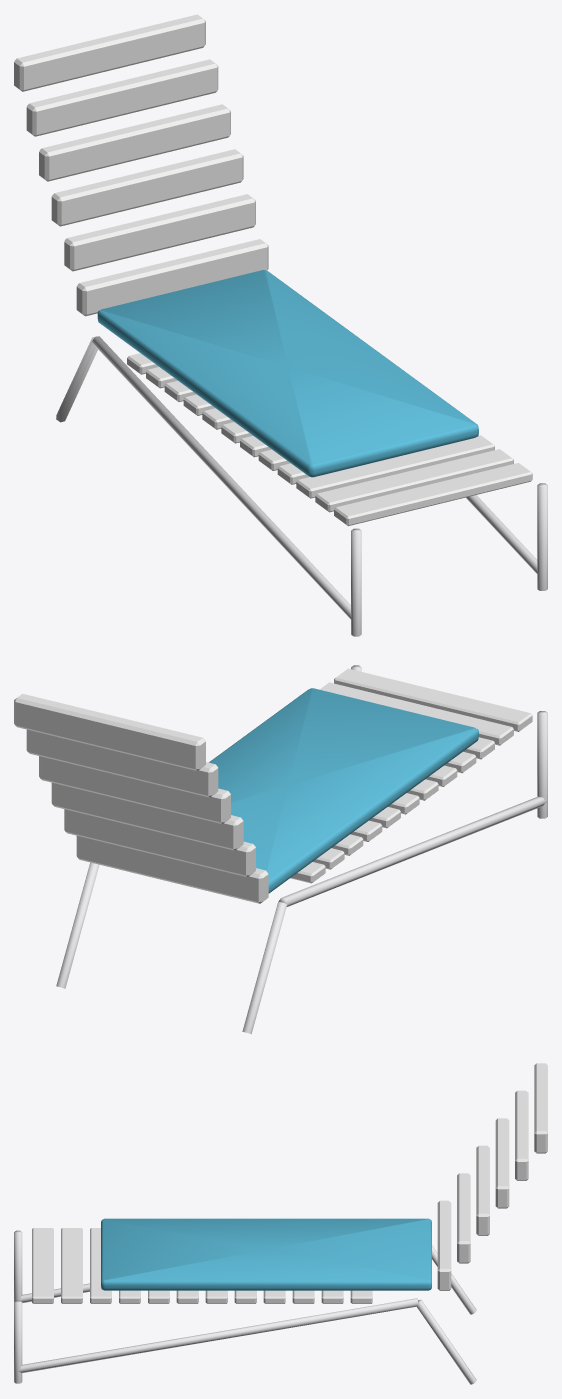
Rendered from deckchair.glb.
3 renders of one model, top to bottom at view 1: azimuth 30°, elevation 25°; view 2: azimuth 150°, elevation 25°; view 3: azimuth 270°, elevation 25°, orthographic. The views are drawn at different scales.
Parts seen in each view (by area): view 1: deckchair; view 2: deckchair; view 3: deckchair.
Part boxes in pixels (box(x1,y1,x2,y2)): deckchair: box(14, 14, 547, 636); deckchair: box(14, 665, 547, 1034); deckchair: box(14, 1063, 547, 1384).
Bounding box in the file's own units: 0.63 × 1.01 × 1.93.
